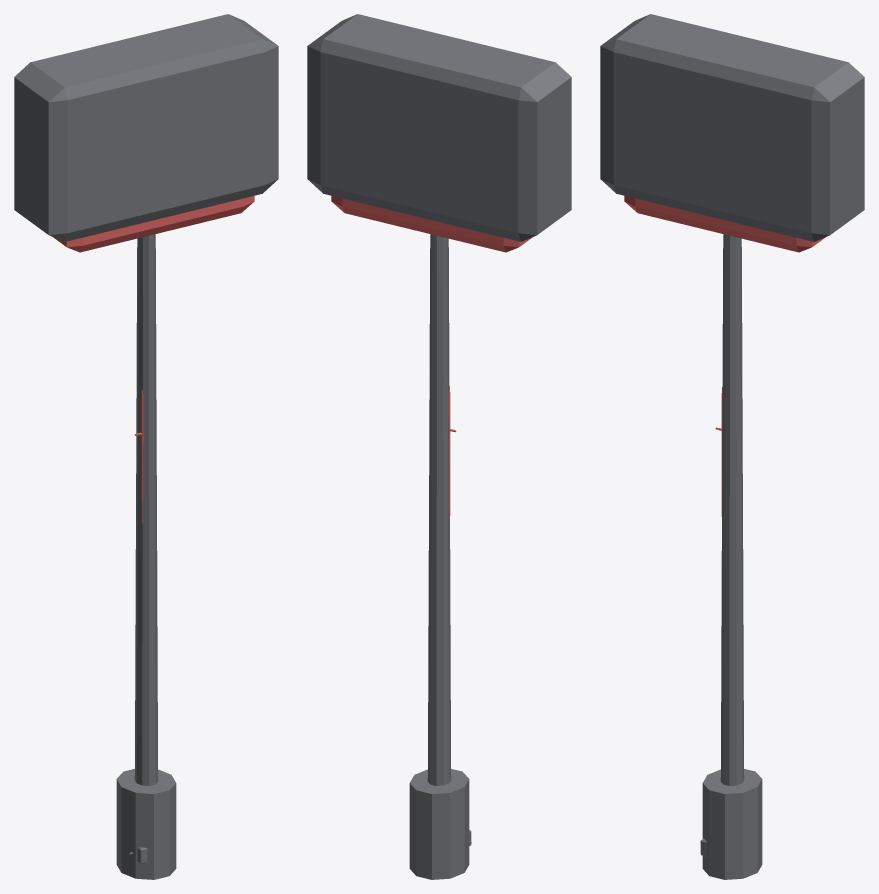
The model's file is b18_american_flag_civic_pole.glb.
3 renders of one model, left to right at view 1: azimuth 30°, elevation 25°; view 2: azimuth 150°, elevation 25°; view 3: azimuth 330°, elevation 25°, orthographic.
Parts seen in each view (by area): view 1: b18_american_flag_civic_pole; view 2: b18_american_flag_civic_pole; view 3: b18_american_flag_civic_pole.
Boxes of the visible parts, <box> form: b18_american_flag_civic_pole: <box>14,14,278,879</box>; b18_american_flag_civic_pole: <box>307,14,571,879</box>; b18_american_flag_civic_pole: <box>600,14,864,879</box>.
Bounding box in the file's own units: 1.86 × 6.31 × 0.56.
